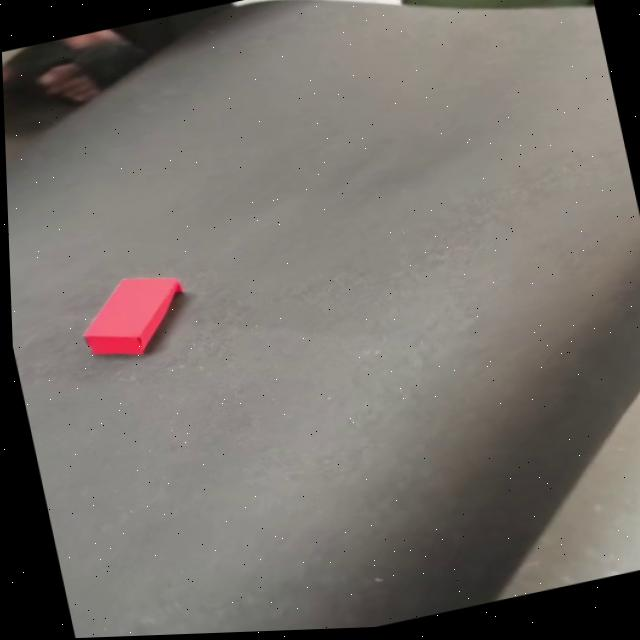red block: (70, 264, 195, 367)
